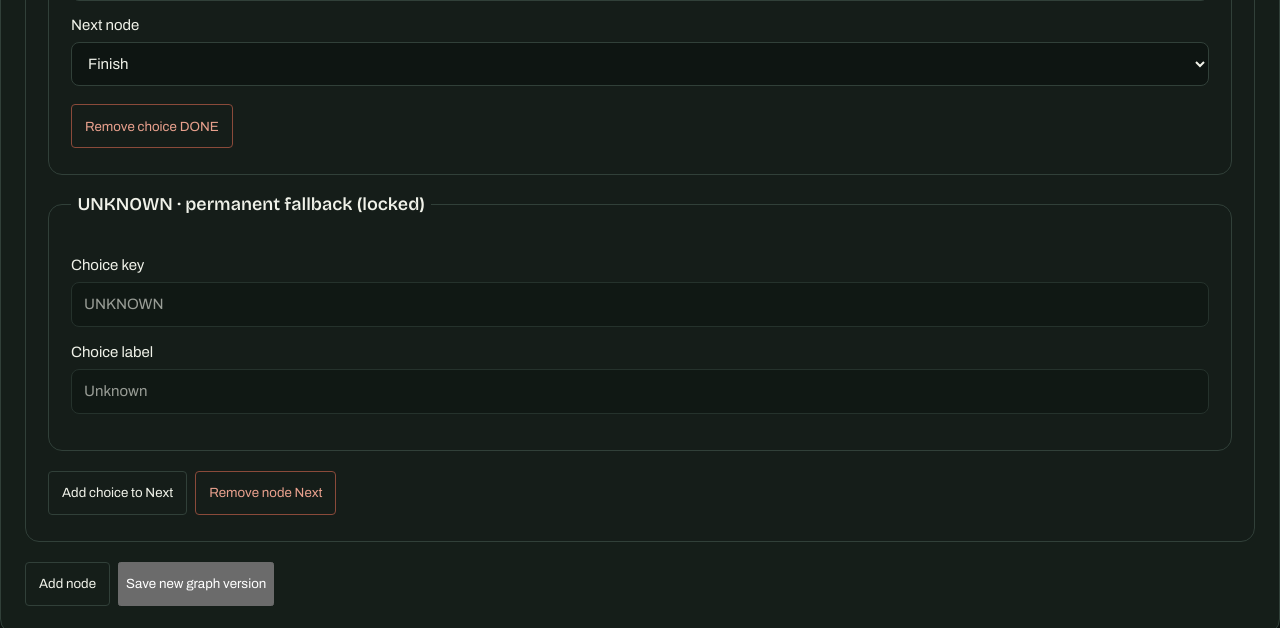
Test case: shared workflow forms › allows another save after adding a node to a previously saved graph
(page scrolled)
Click the button "Save new graph version" at (196, 584), box [118, 562, 274, 606]
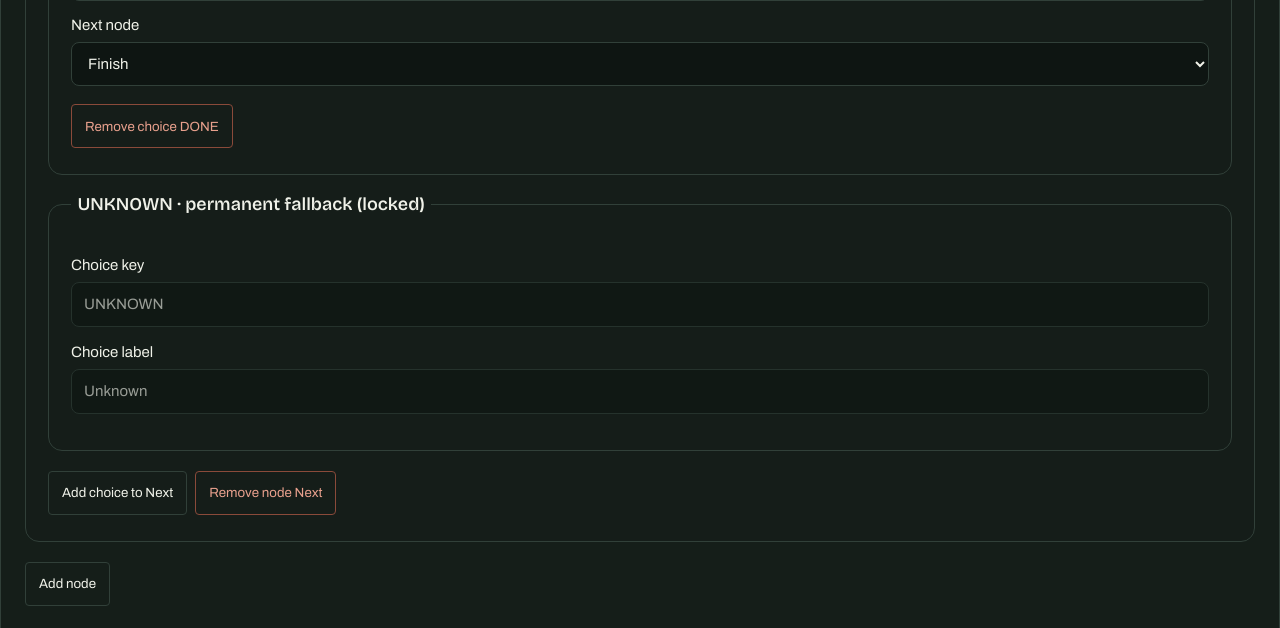
Click the button "Add node" at (68, 584), box [25, 562, 110, 606]
(page scrolled)
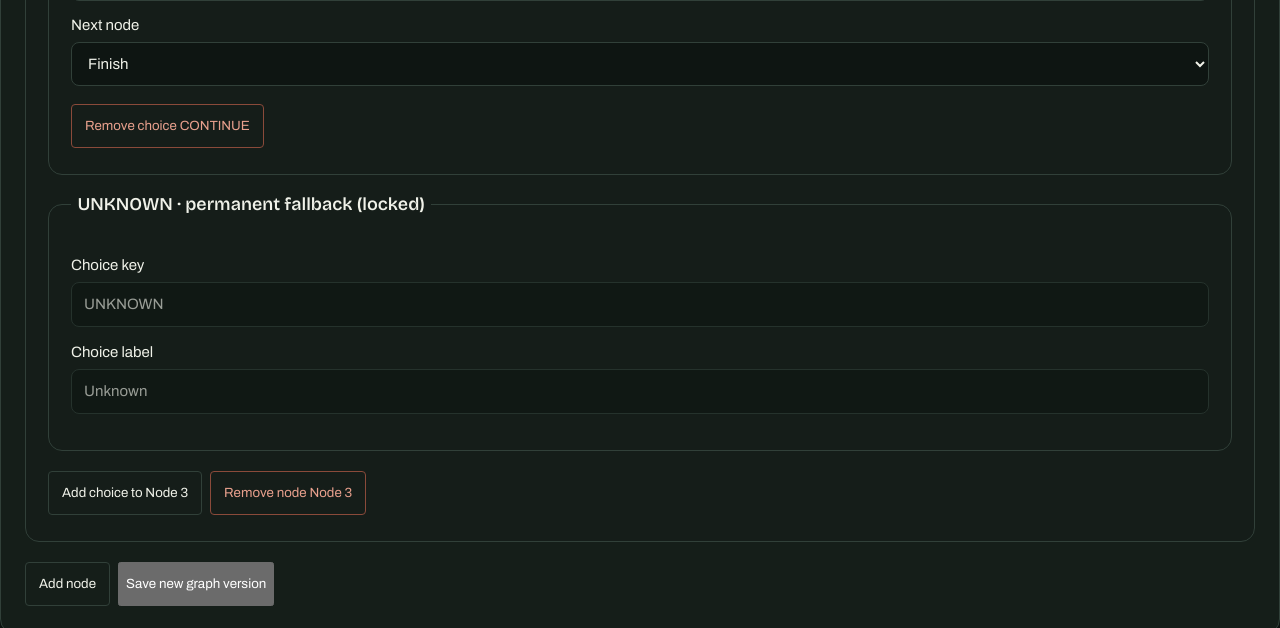
Check: the button "Save new graph version" is enabled, box [118, 562, 274, 606]
